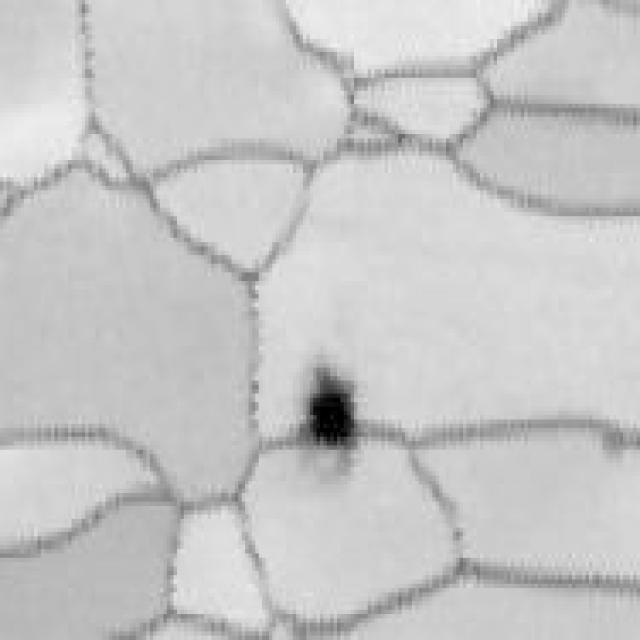good_void: (298, 364, 364, 453)
